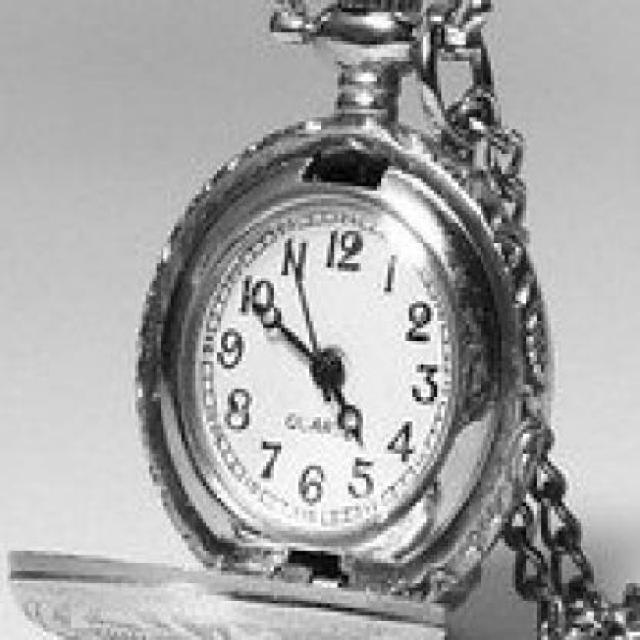clock: (190, 205, 446, 528)
